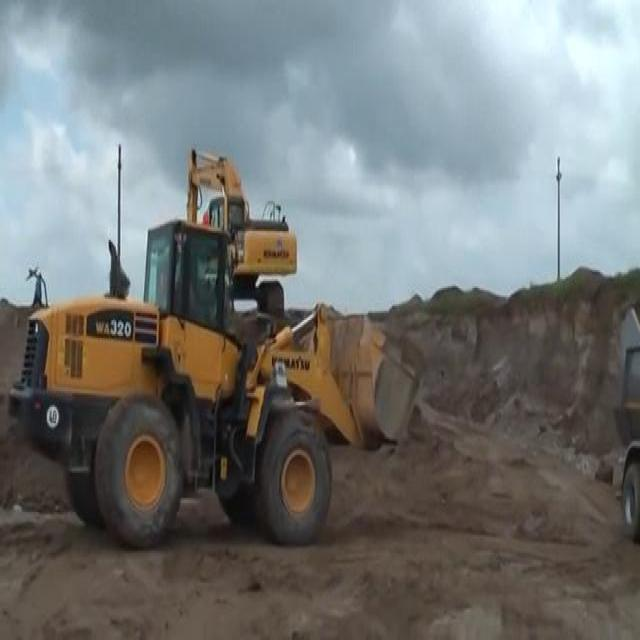buldozerpayloadergrader: (7, 218, 422, 548)
excavator: (185, 147, 297, 313)
